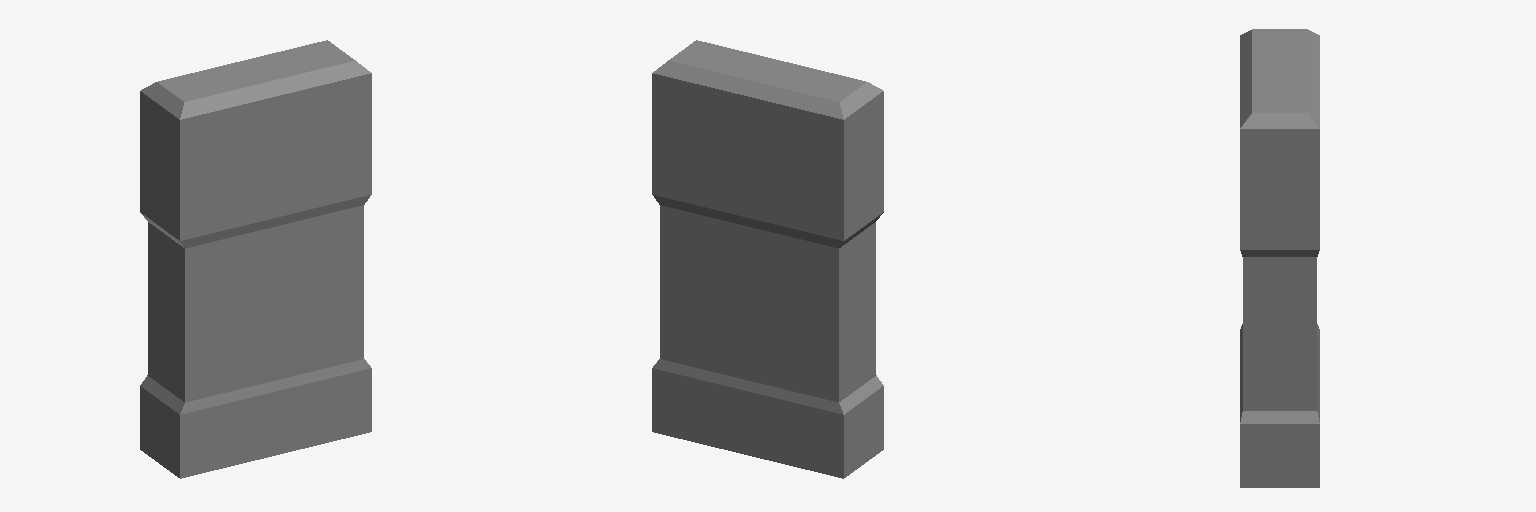
The model's file is torre1.obj.
3 renders of one model, left to right at view 1: azimuth 30°, elevation 25°; view 2: azimuth 150°, elevation 25°; view 3: azimuth 270°, elevation 25°, orthographic.
Visible parts, largest first — view 1: Box006; view 2: Box006; view 3: Box006.
Boxes of the visible parts, <box> form: Box006: <box>140,40,371,478</box>; Box006: <box>652,40,883,478</box>; Box006: <box>1240,29,1319,487</box>.
Bounding box in the file's own units: 39.11 × 72.05 × 14.09.